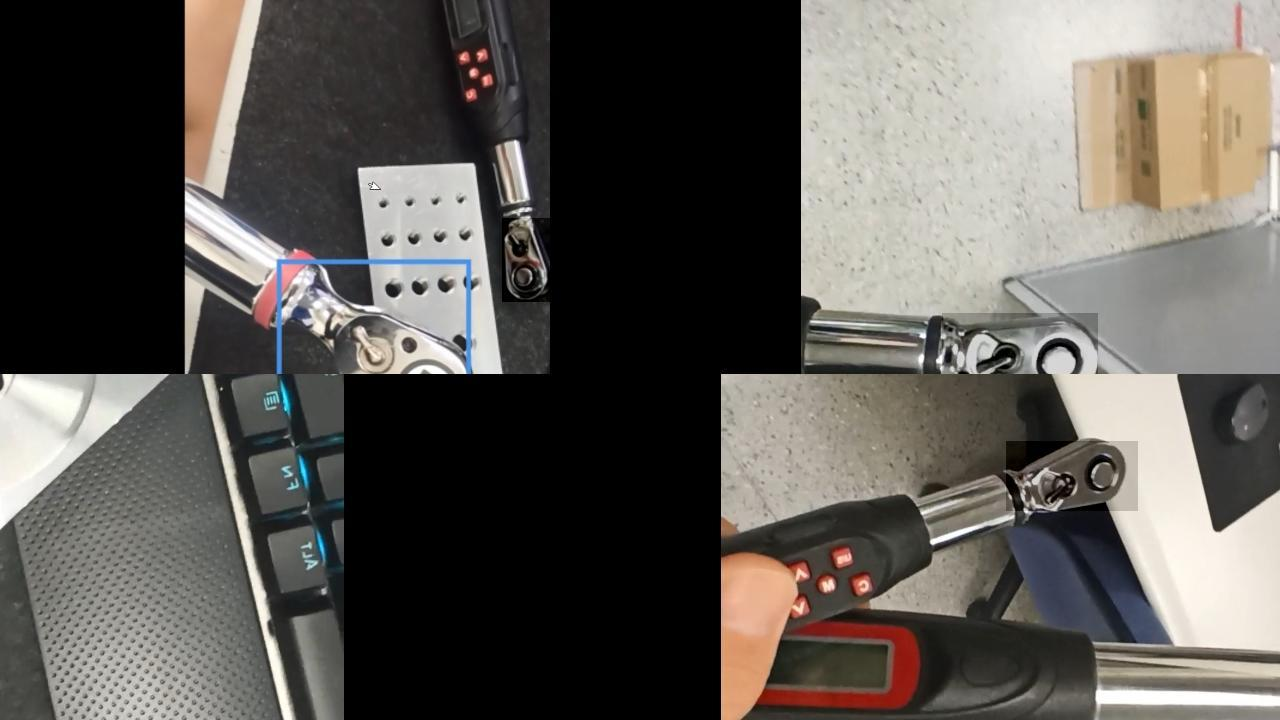Tool: (942, 312, 1098, 374), (1006, 440, 1138, 510), (502, 217, 550, 301)
hole: (448, 332, 483, 357), (390, 329, 423, 352), (430, 271, 464, 292), (379, 274, 409, 294), (404, 277, 435, 296), (376, 228, 406, 246), (459, 274, 483, 295), (403, 228, 431, 245), (457, 225, 484, 241), (433, 226, 460, 242), (400, 192, 423, 206), (374, 194, 397, 206), (432, 192, 453, 204), (456, 191, 476, 202)
